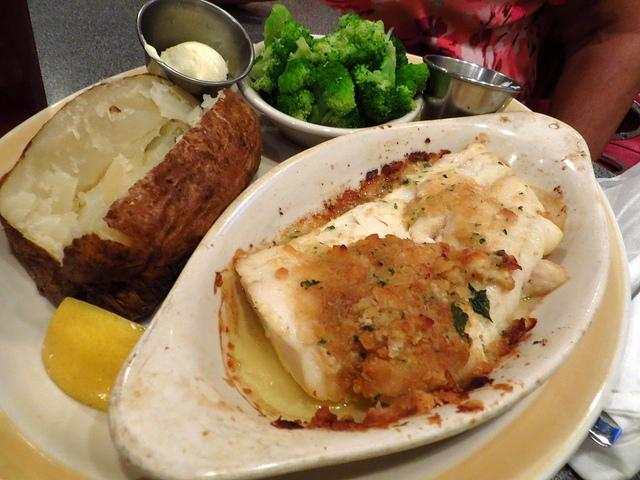broccoli: (350, 42, 418, 124), (311, 14, 388, 71), (303, 61, 357, 124), (248, 42, 291, 106), (278, 36, 320, 94), (280, 20, 314, 58), (276, 89, 314, 122), (395, 62, 430, 96)
lemon: (42, 296, 147, 412)
potato: (0, 72, 263, 324)
